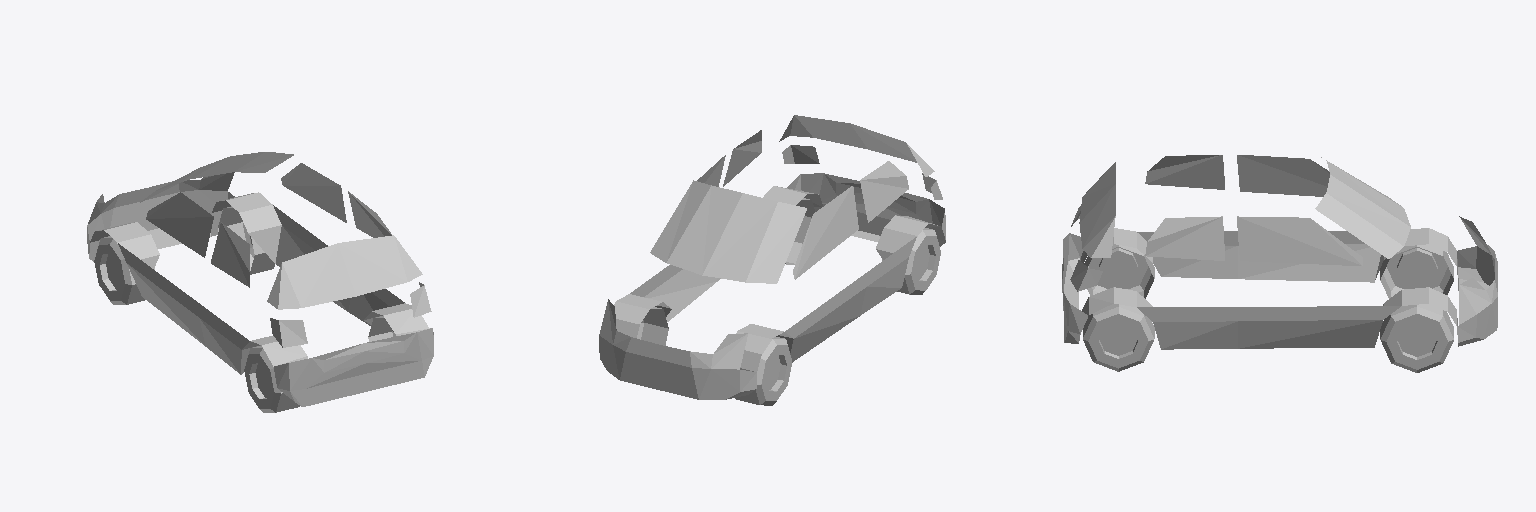
Rendered from CarOthers.obj.
3 views of the same model, side by side, from view 1: azimuth 30°, elevation 25°; view 2: azimuth 150°, elevation 25°; view 3: azimuth 270°, elevation 25° (orthographic).
Visible parts, largest first — view 1: Car_Base; view 2: Car_Base; view 3: Car_Base.
Boxes of the visible parts, box(x1,y1,x2,y2) form: Car_Base: box(87, 152, 433, 412); Car_Base: box(599, 115, 945, 405); Car_Base: box(1062, 155, 1497, 372).
Bounding box in the file's own units: 1.94 × 1.92 × 4.67.